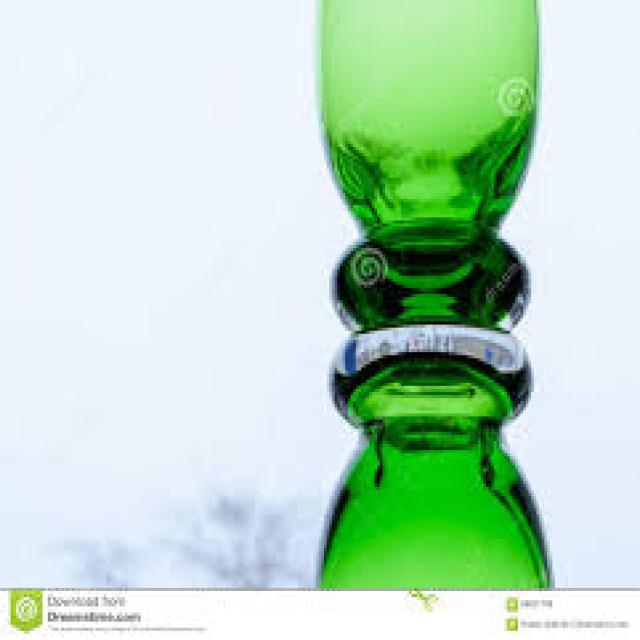glass: (314, 0, 553, 588)
